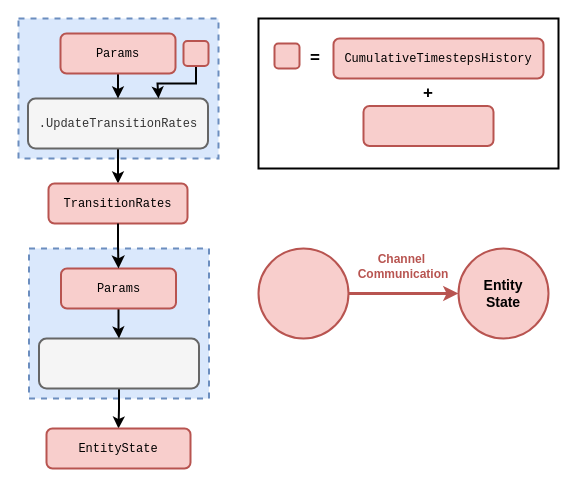
This 576x486 diagram has some shape labels left out. Here are the shapes that lost their labels. From the top down, the centre of each, then its label:
point 428,125: []StateHistory
point 303,293: Transition Rates
point 119,363: .TransitionState
